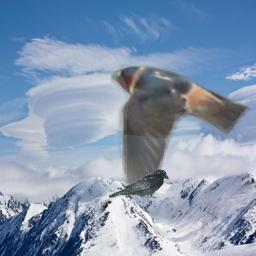Crow: (108, 169, 169, 198)
Swallow: (111, 60, 251, 193)
